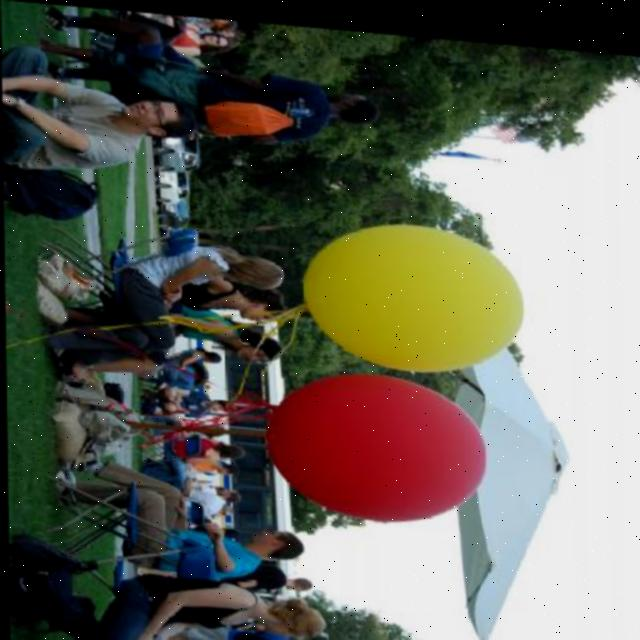balloon: (244, 357, 492, 525), (300, 212, 534, 372)
